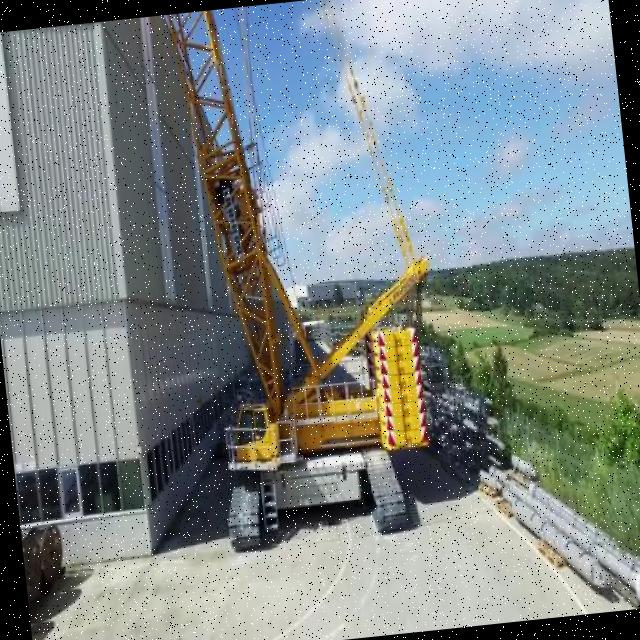Mobile Crane: (143, 0, 455, 553)
